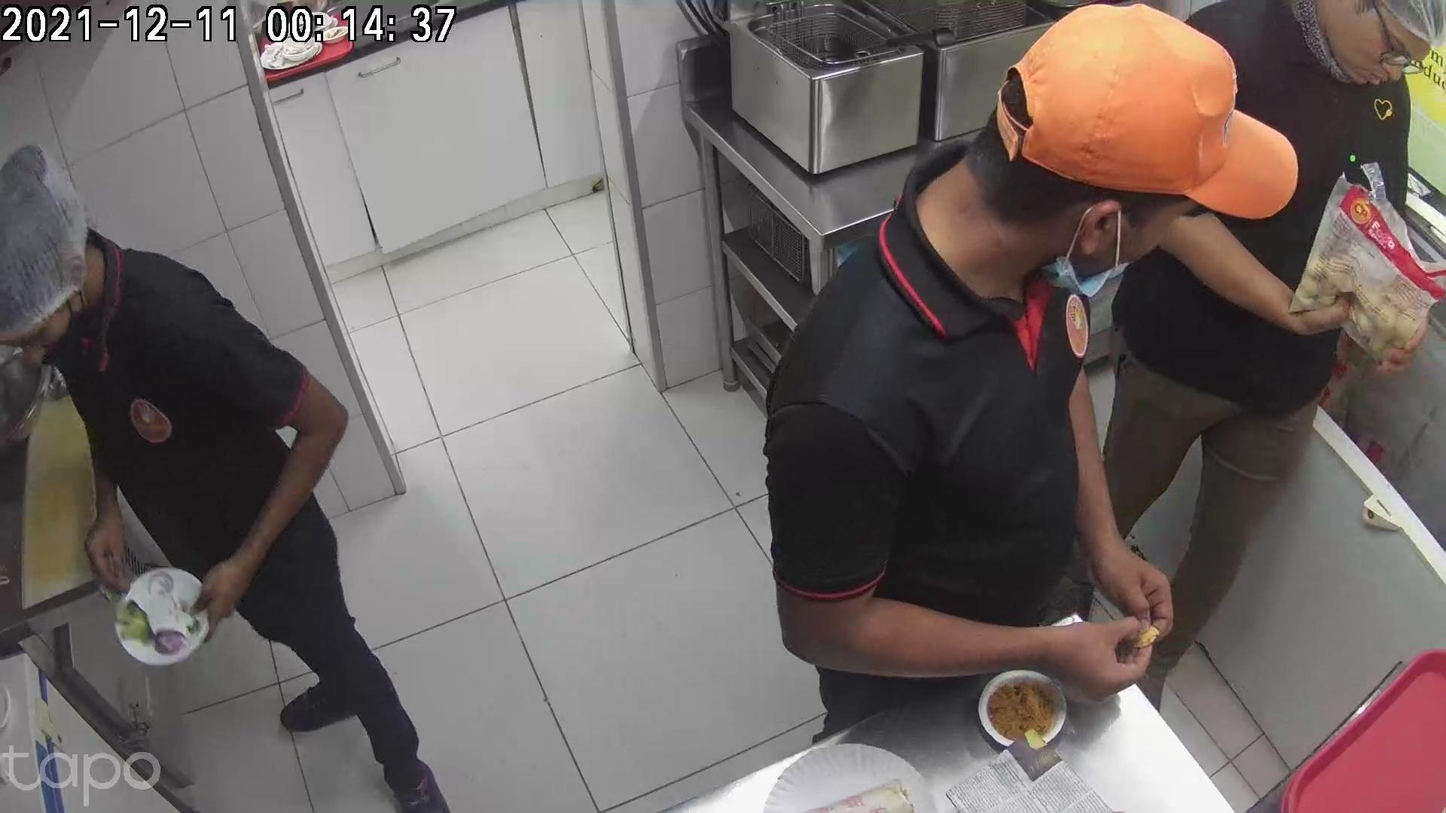gloves: (521, 519, 593, 674)
no_gloves: (951, 445, 998, 556)
